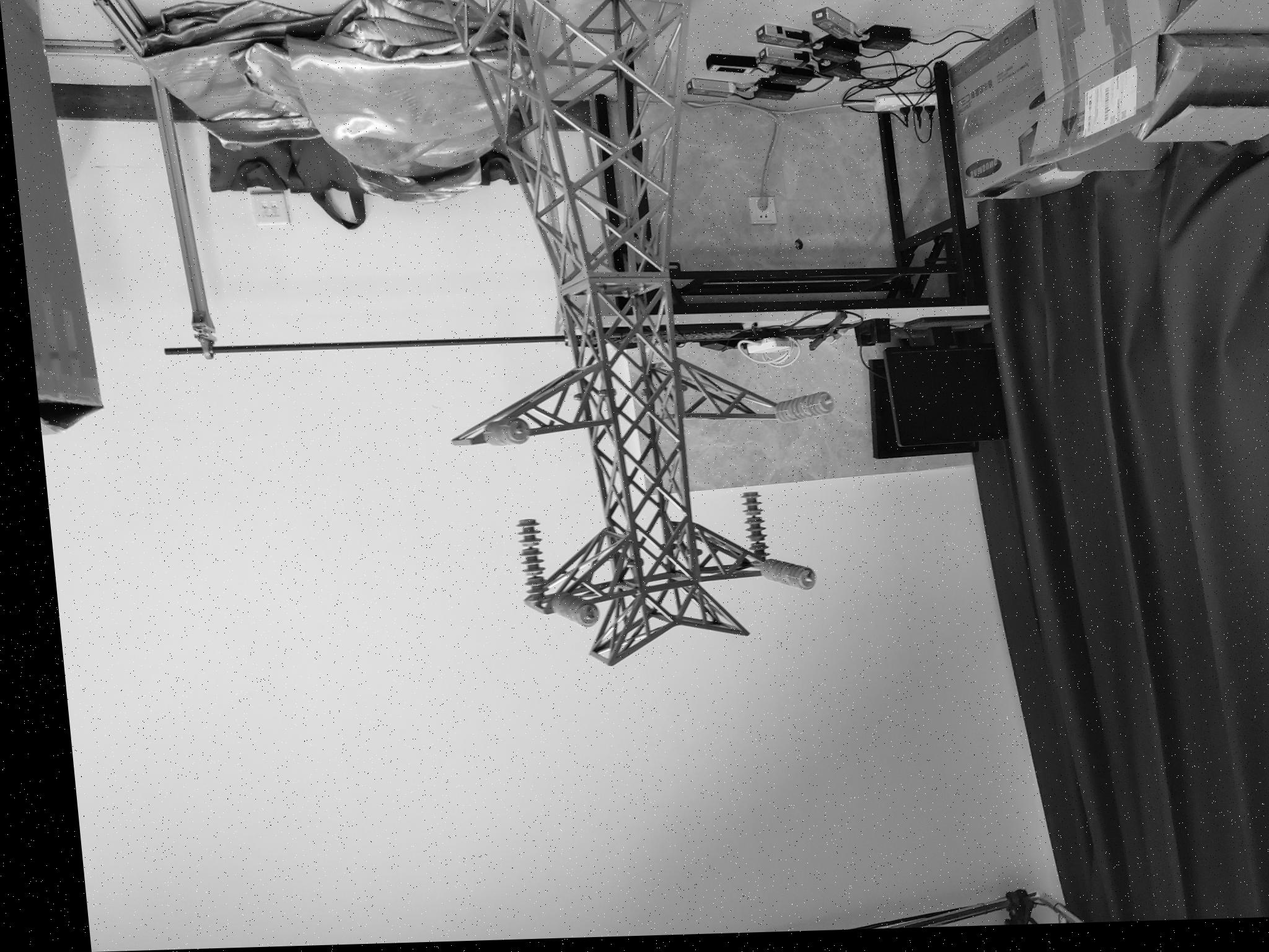tower: (411, 0, 795, 672)
